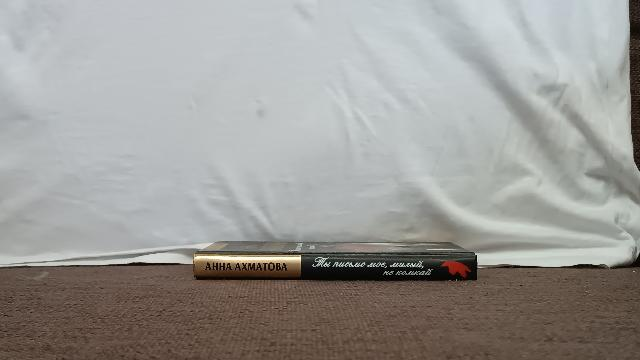book-s-spine: (193, 255, 477, 279)
